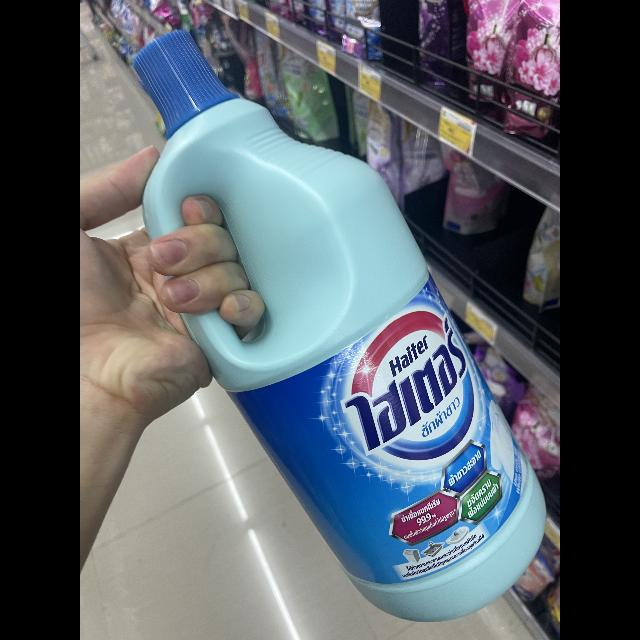chemical_plastic_bottle: (128, 21, 548, 625)
